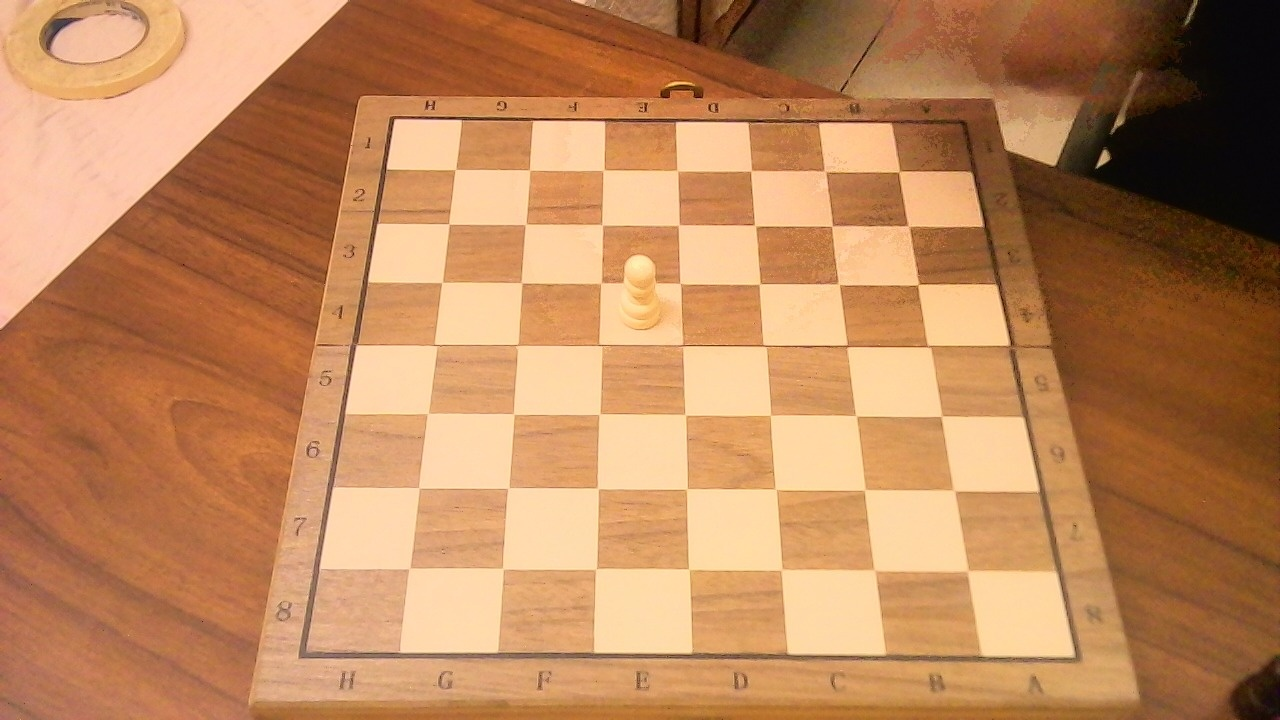P: (608, 244, 668, 334)
